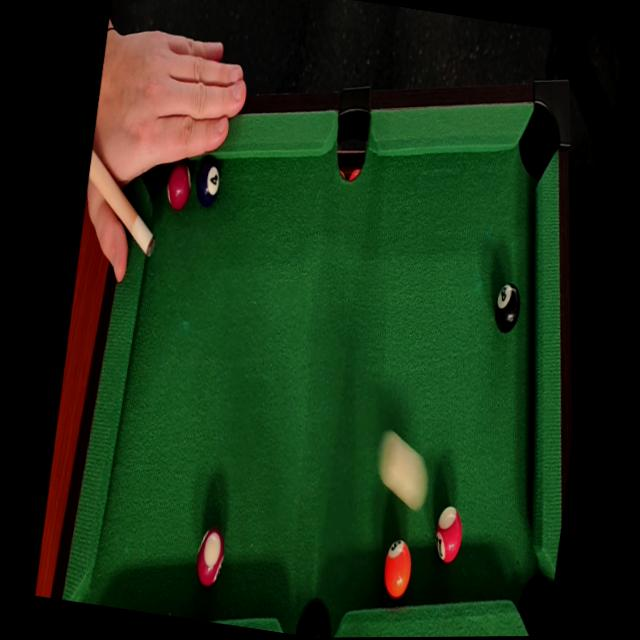cue ball: (367, 420, 440, 514)
other: (376, 535, 422, 609), (425, 496, 469, 573), (189, 520, 231, 590), (187, 148, 227, 215), (489, 274, 528, 332), (160, 154, 197, 215)
